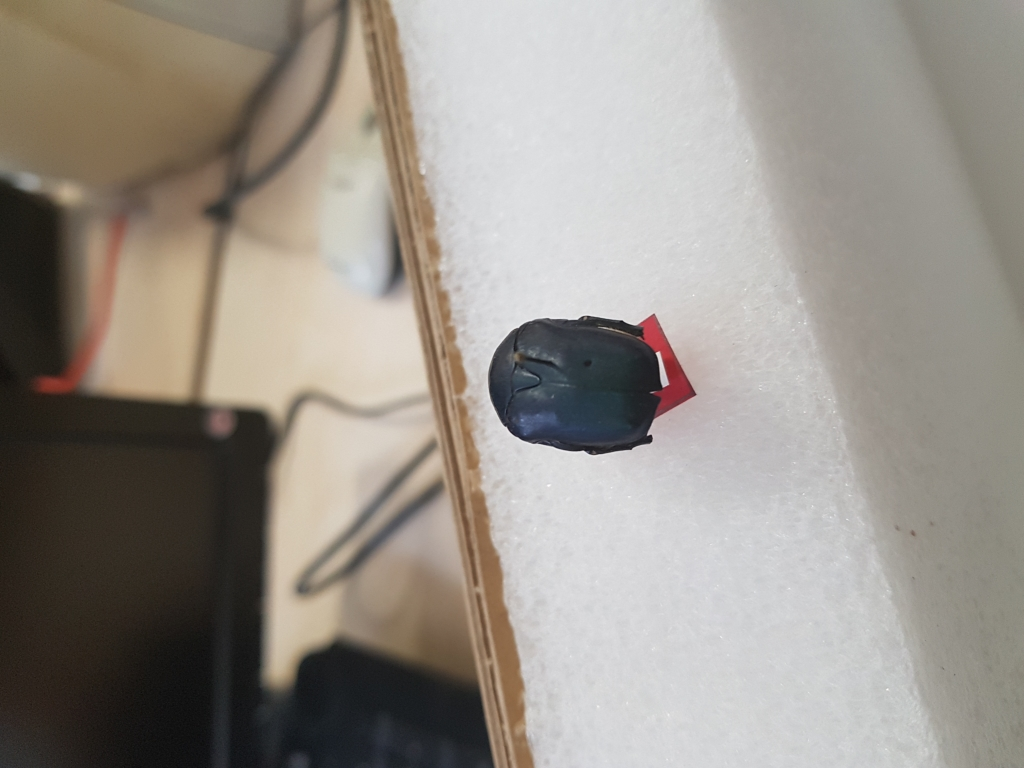Protaetia_afflicta: (488, 310, 660, 457)
